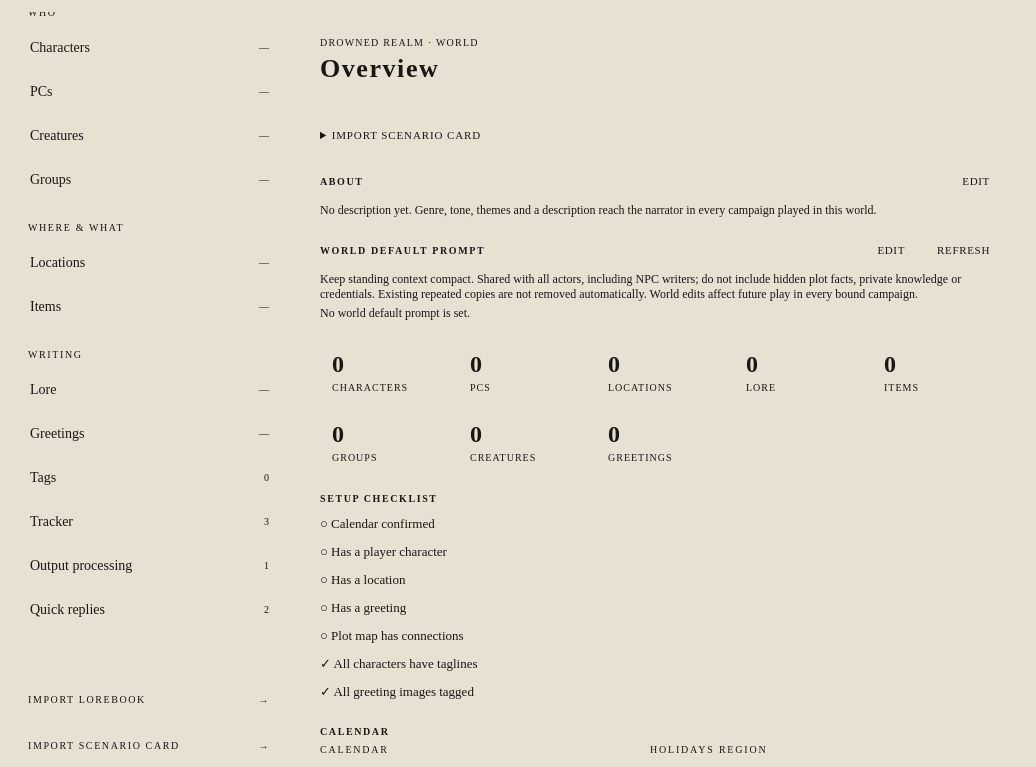
the Output processing row counts the world's own rules and opens their editor
(page scrolled)
Click the link "Output processing 1" at (81, 565), box [30,558,270,573]
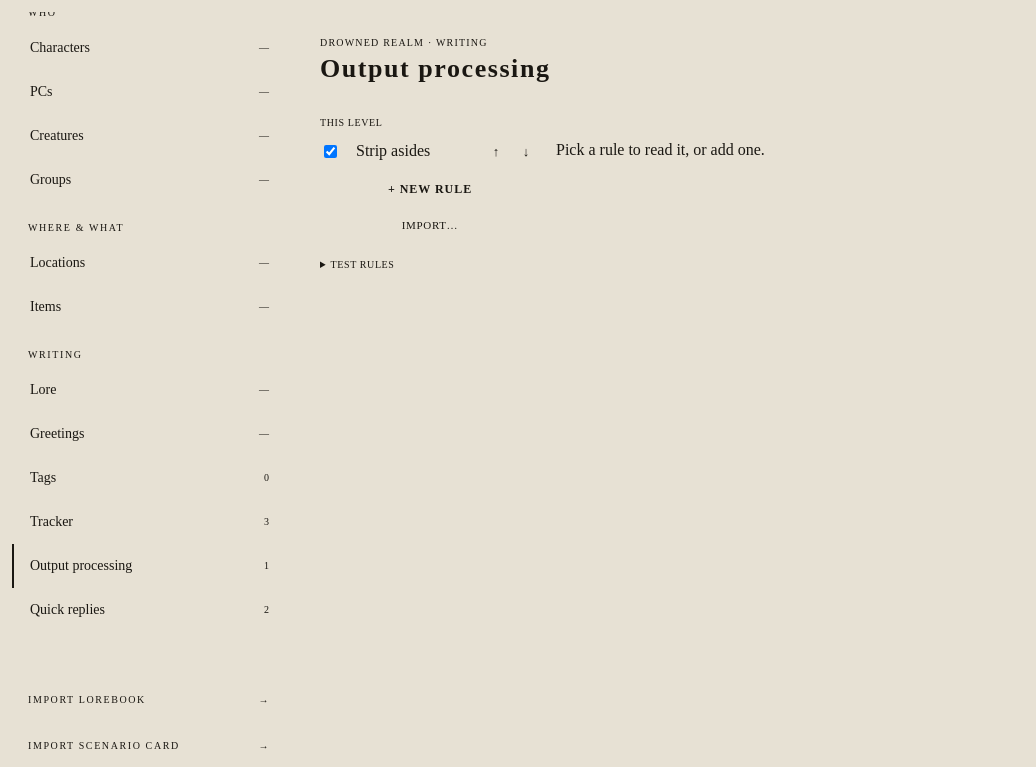
Check: the heading "Output processing" is shown, box [320,54,550,83]
Check: the button "+ New rule" is shown, box [320,174,540,205]
Check: the button "Strip asides" is shown, box [346,134,476,168]
